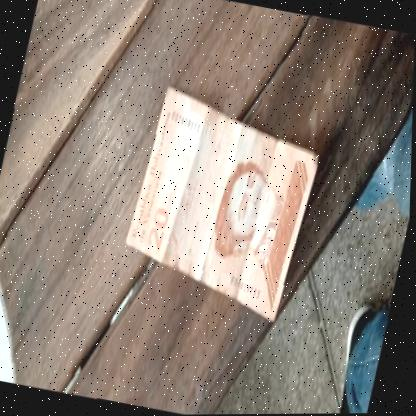twenty-front-vef: (114, 82, 331, 324)
